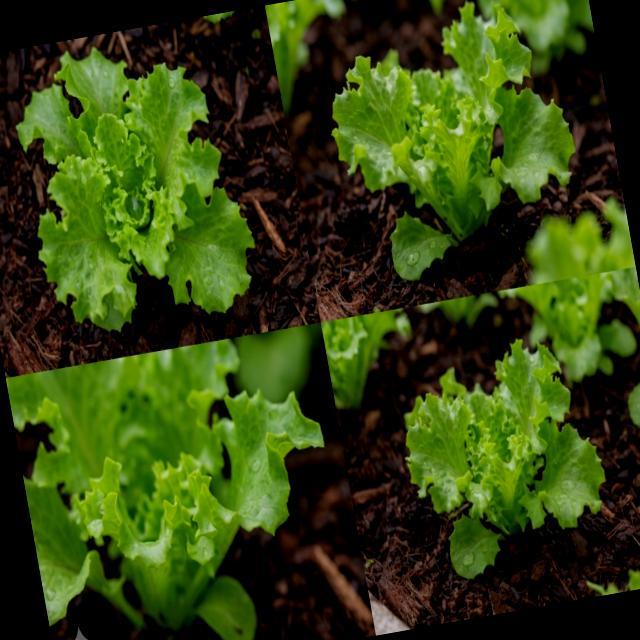inmadura: (332, 1, 574, 279), (16, 49, 254, 329), (405, 339, 605, 578)
